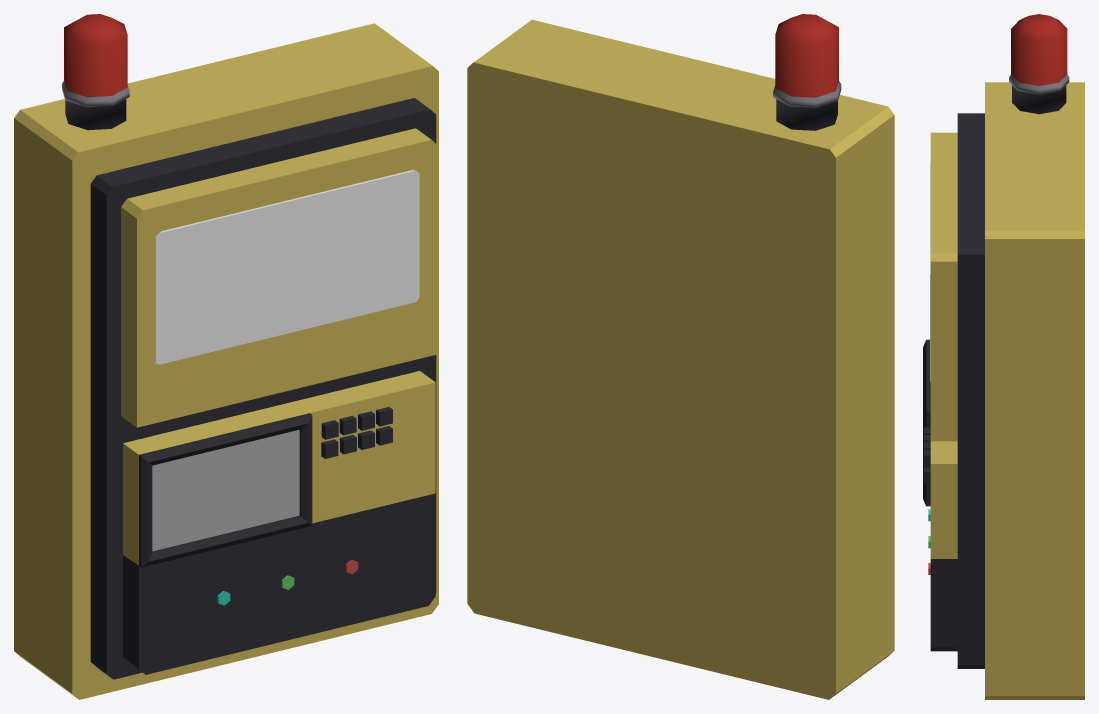
Rendered from Fusebox_01.fbx.
The picture shows the model from 3 angles, left to right: view 1: azimuth 30°, elevation 25°; view 2: azimuth 150°, elevation 25°; view 3: azimuth 270°, elevation 25°; orthographic projection. The views are drawn at different scales.
Parts seen in each view (by area): view 1: Fusebox_01, Fusebox_Flap_01, Fusebox_Screen_16x9_01, Fusebox_Light_01; view 2: Fusebox_01, Fusebox_Light_01; view 3: Fusebox_01, Fusebox_Light_01.
Boxes of the visible parts, x1,y1,x2,y2 form: Fusebox_01: [14, 23, 438, 699]; Fusebox_Flap_01: [155, 170, 419, 364]; Fusebox_Screen_16x9_01: [152, 429, 299, 551]; Fusebox_Light_01: [62, 14, 129, 107]; Fusebox_01: [467, 19, 894, 699]; Fusebox_Light_01: [773, 14, 841, 107]; Fusebox_01: [923, 82, 1084, 699]; Fusebox_Light_01: [1009, 14, 1069, 94].
Size of the model in its own units: 0.4005 by 0.6723 by 0.1785.
